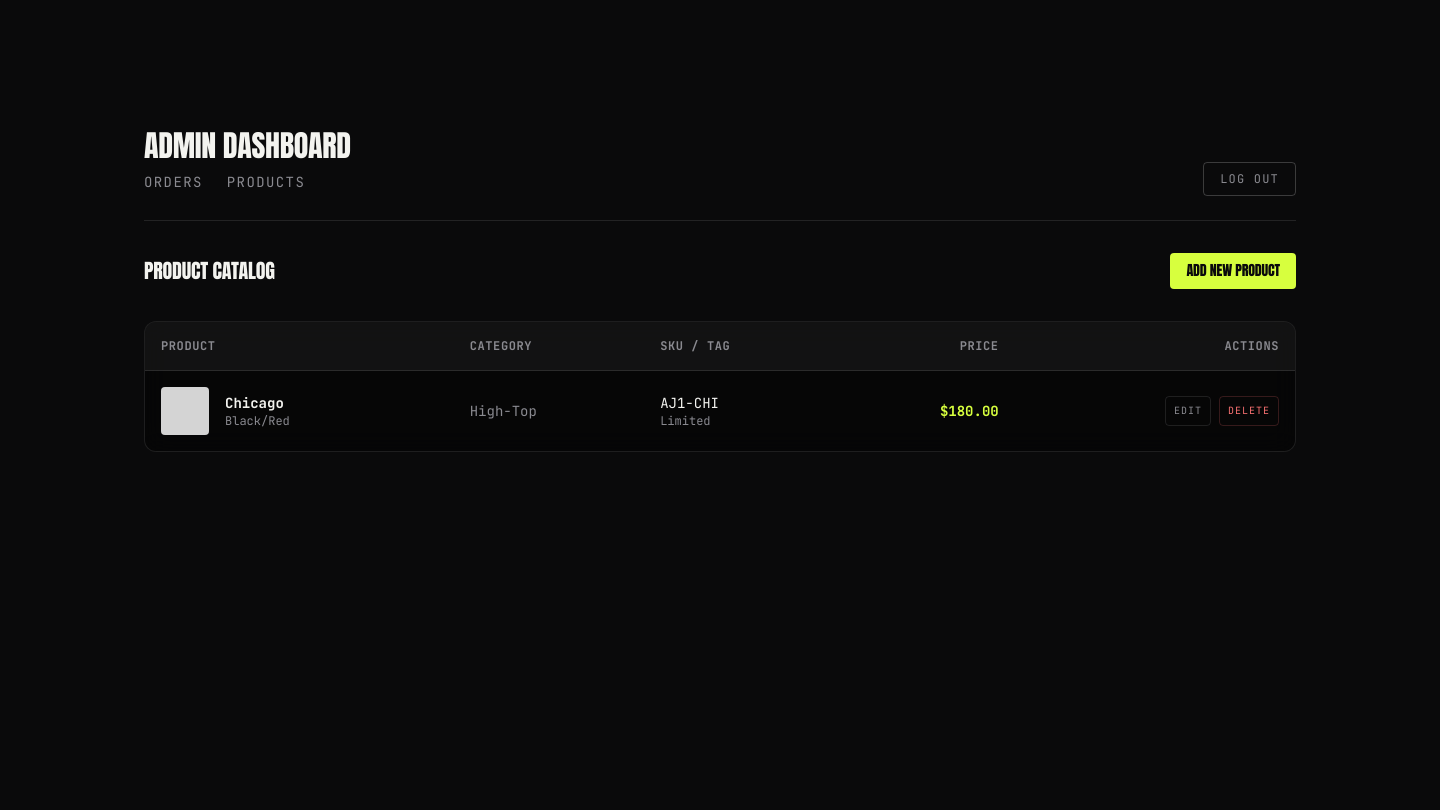
Scenario: create › opens an empty form defaulting to Mid-Top
Check: the text "Chicago" is shown, box [225,393,290,413]
Click the button "Add New Product" at [1233, 271], box [1170,253,1296,289]
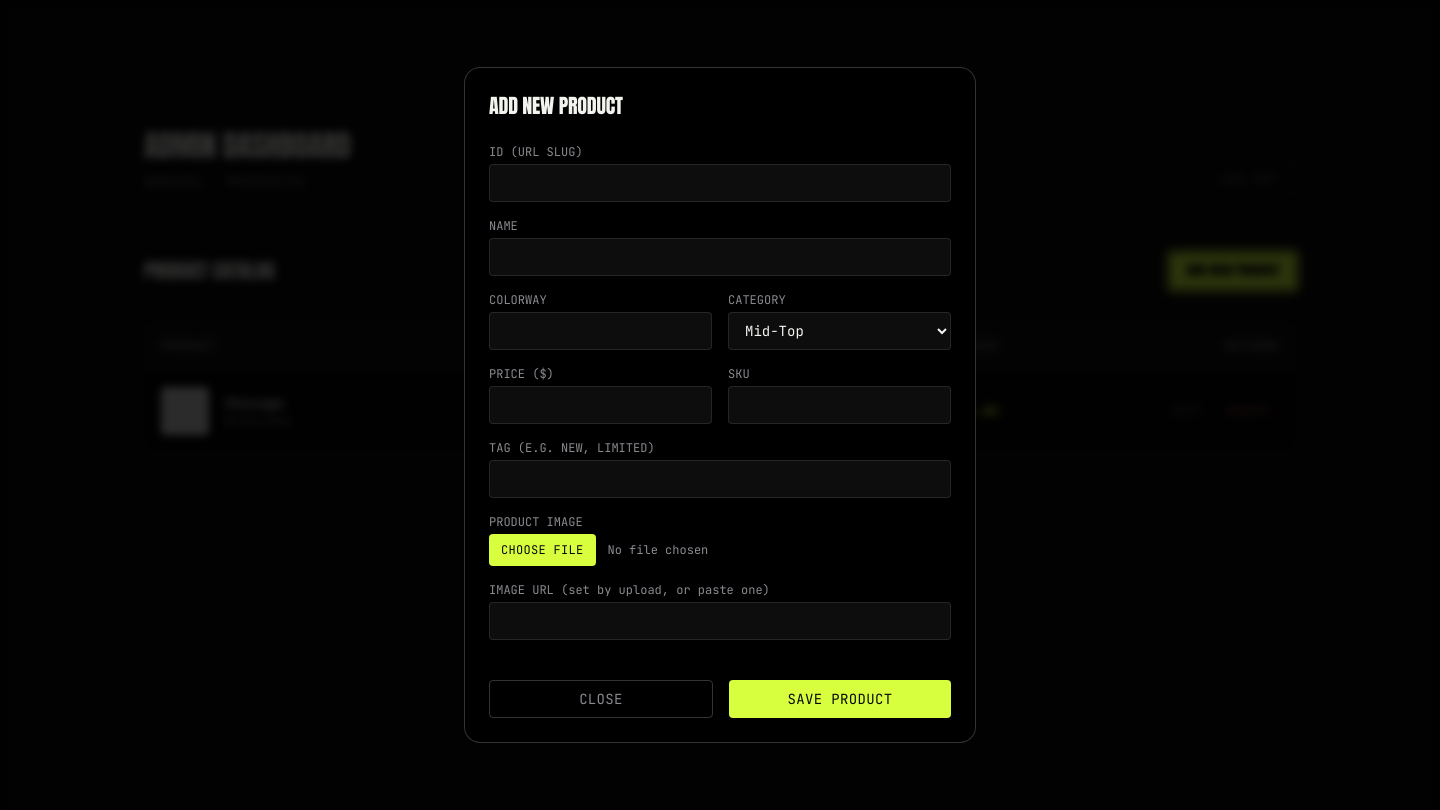
Check: the heading "Add New Product" is shown, box [489,90,623,121]
Check: the dropdown labelled "Category" shows "Mid-Top", box [728,312,951,350]
